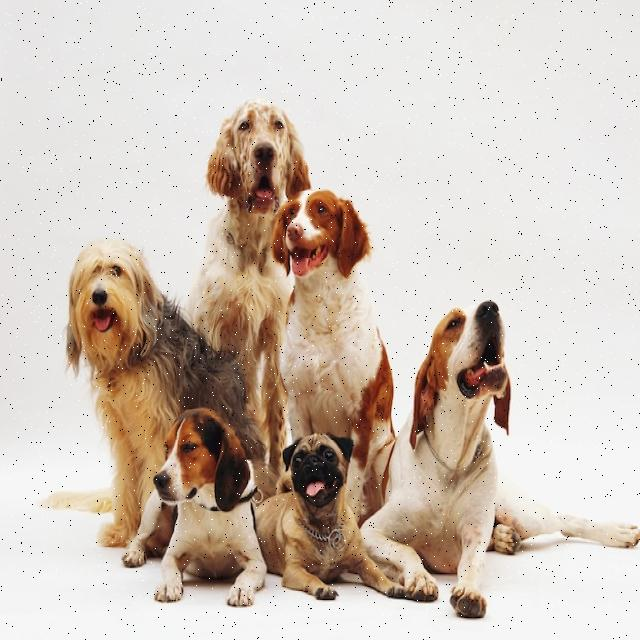Dog: (361, 302, 640, 617), (35, 238, 261, 552), (186, 102, 312, 494), (273, 191, 394, 520), (124, 402, 264, 608), (254, 432, 404, 602)
